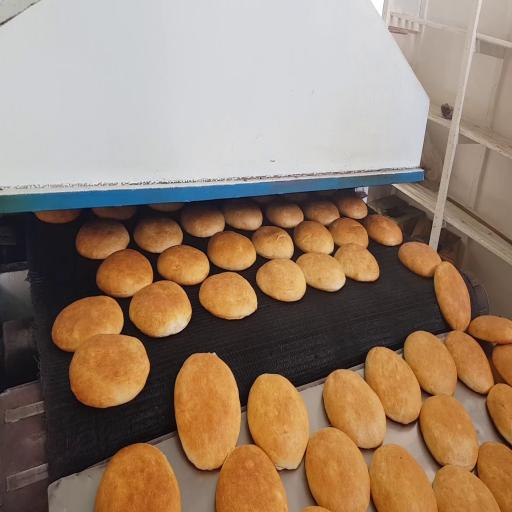bread: (174, 354, 241, 470), (247, 374, 309, 469), (70, 335, 149, 408), (95, 444, 181, 511), (306, 428, 370, 511), (323, 370, 386, 448), (216, 445, 288, 511), (369, 444, 437, 511), (420, 395, 478, 470), (366, 347, 421, 424), (52, 296, 123, 352), (130, 281, 191, 337), (404, 331, 457, 394), (433, 465, 500, 511), (445, 331, 494, 393), (96, 249, 153, 297), (199, 272, 257, 319), (435, 262, 471, 331), (478, 442, 511, 511), (256, 259, 306, 301), (76, 220, 129, 259), (158, 245, 209, 285), (207, 231, 256, 270), (297, 253, 345, 291), (134, 217, 182, 253), (335, 243, 379, 282), (398, 242, 441, 277), (181, 203, 225, 237), (487, 384, 511, 444), (252, 226, 294, 259), (294, 221, 333, 254), (222, 199, 262, 230), (468, 316, 511, 344), (364, 215, 402, 246), (329, 218, 368, 247), (266, 201, 303, 228), (304, 200, 339, 226), (336, 194, 367, 219), (492, 346, 511, 385), (92, 206, 136, 220), (35, 210, 81, 223), (148, 203, 183, 212), (281, 192, 309, 202), (250, 195, 276, 204), (315, 190, 337, 197), (302, 506, 328, 511)
